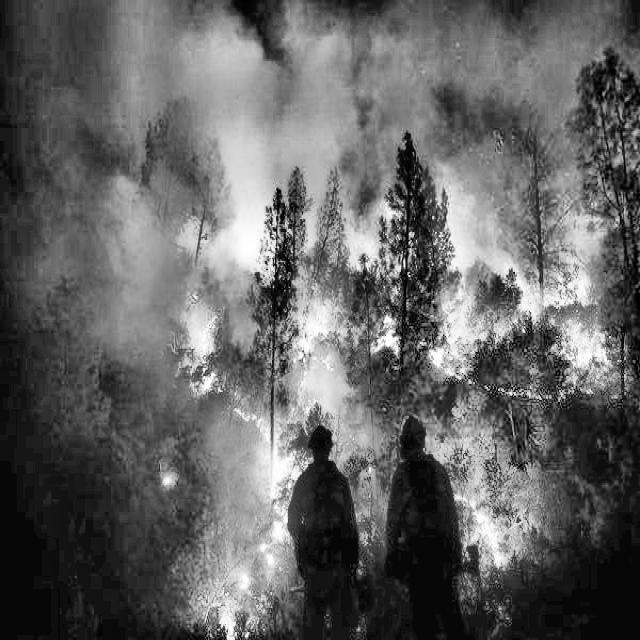fire: (120, 45, 562, 369), (208, 356, 328, 596), (547, 298, 620, 450), (466, 431, 517, 621)
